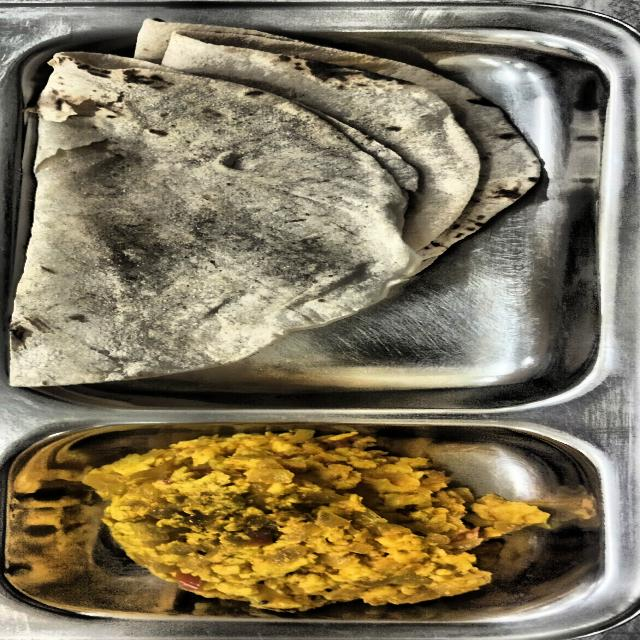Paneer-bhurji: (105, 448, 539, 610)
Roti: (31, 52, 476, 384)
